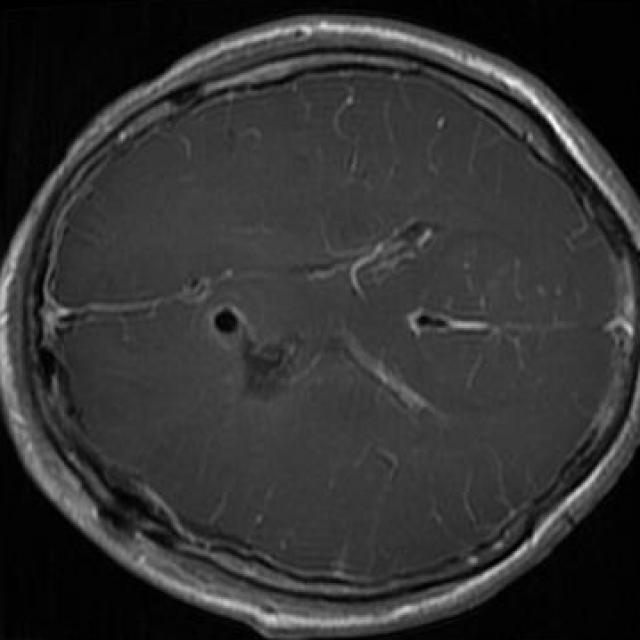glioma: (241, 332, 303, 401)
